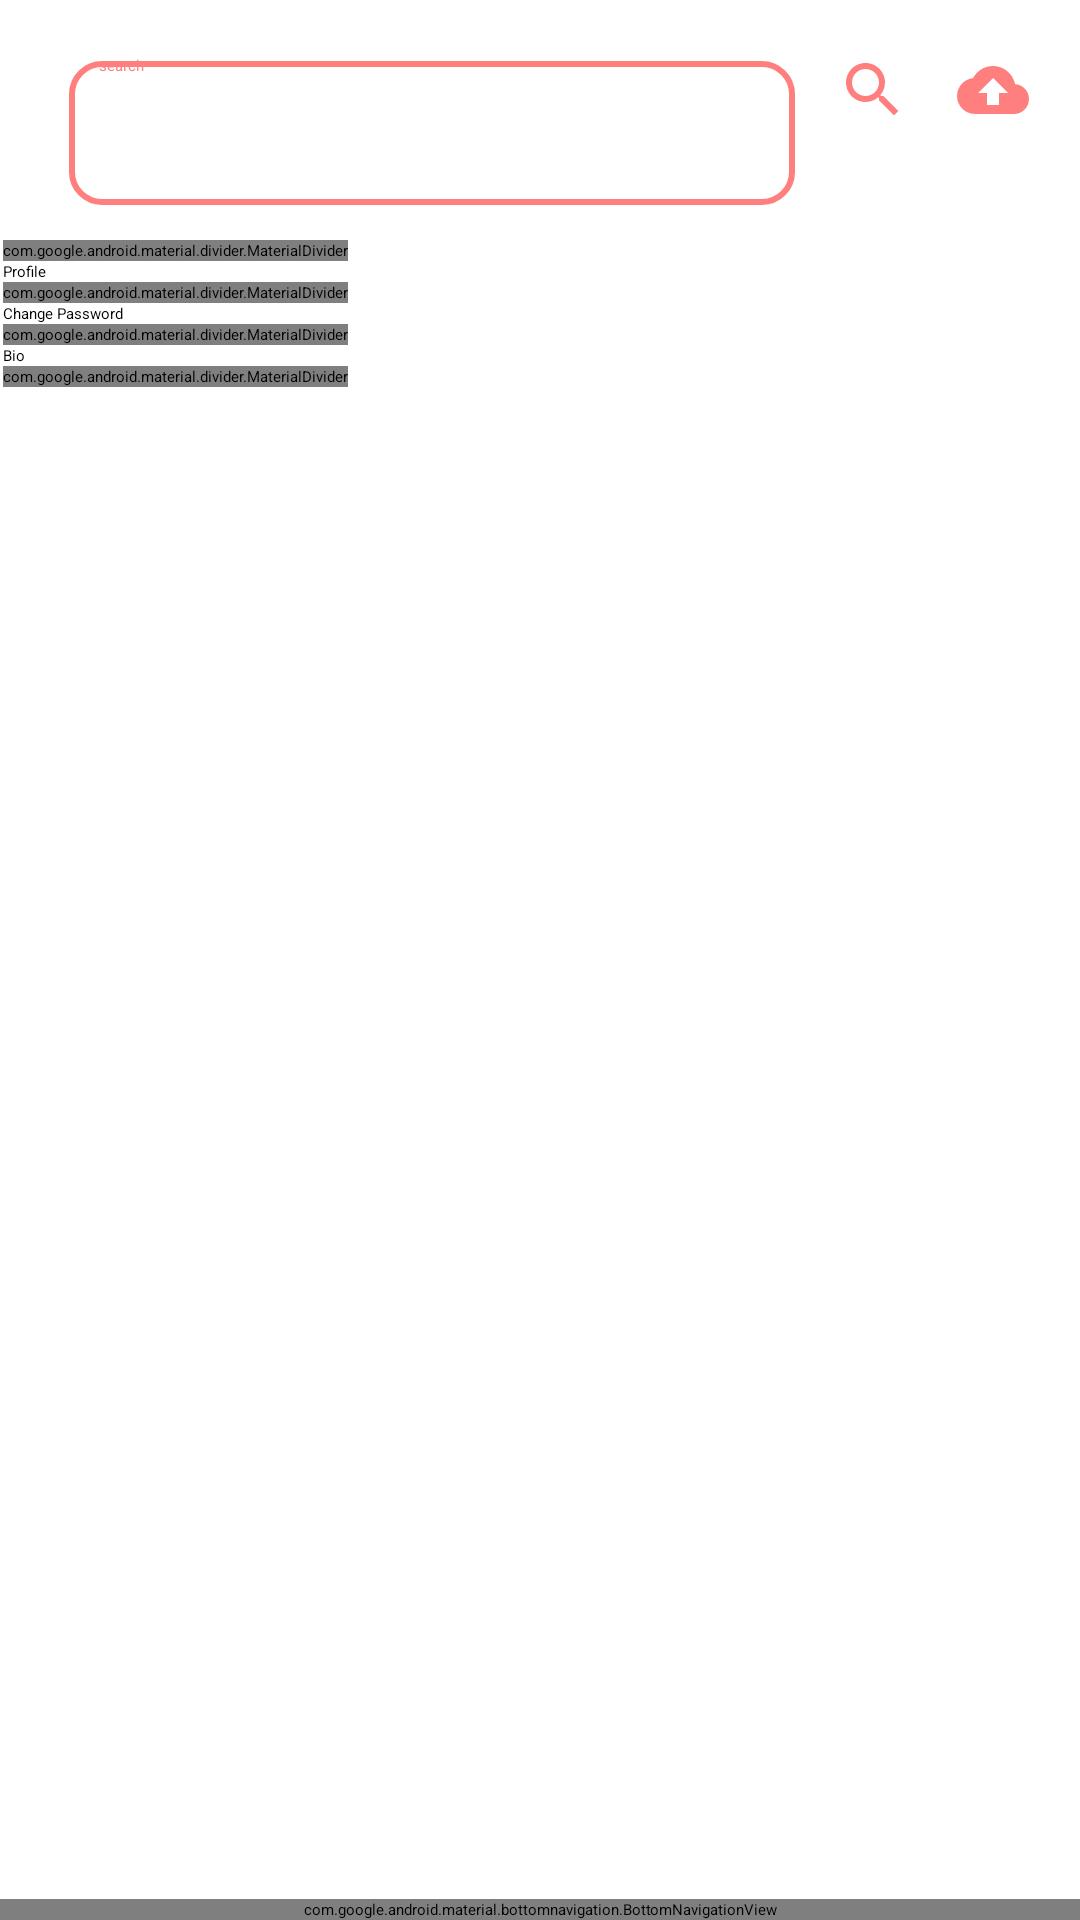

Icon bounding boxes for this 1080 × 1920 phone screenshot, format bbox=[x1, y1, x2, y2]:
cloud upload: bbox=[957, 66, 1029, 114]
